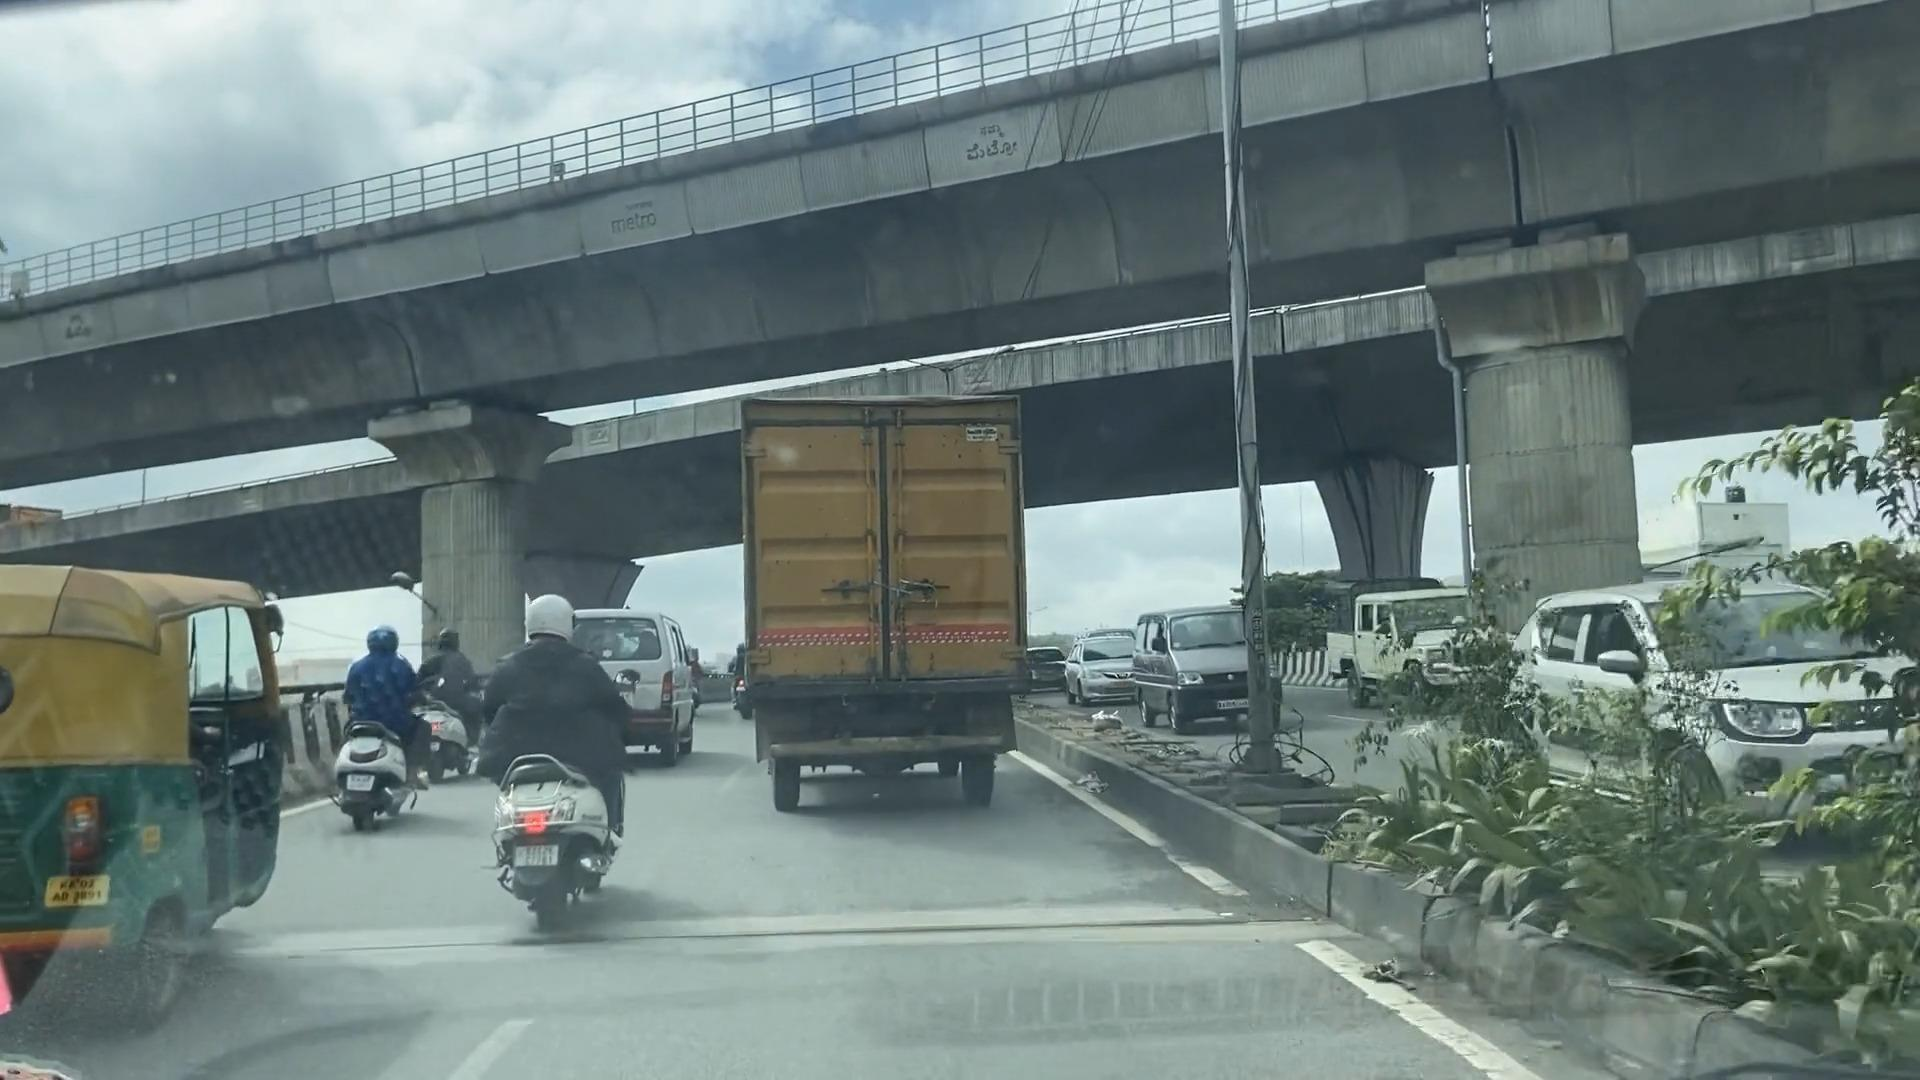HMV: (733, 390, 1026, 811)
LMV: (500, 596, 599, 932), (330, 620, 406, 827)
